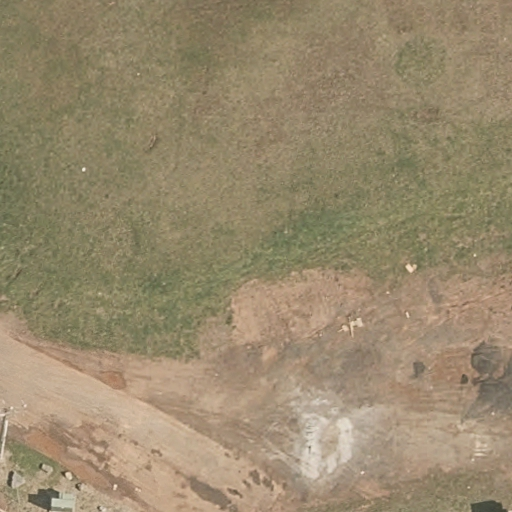DT: (2, 401, 33, 463)
